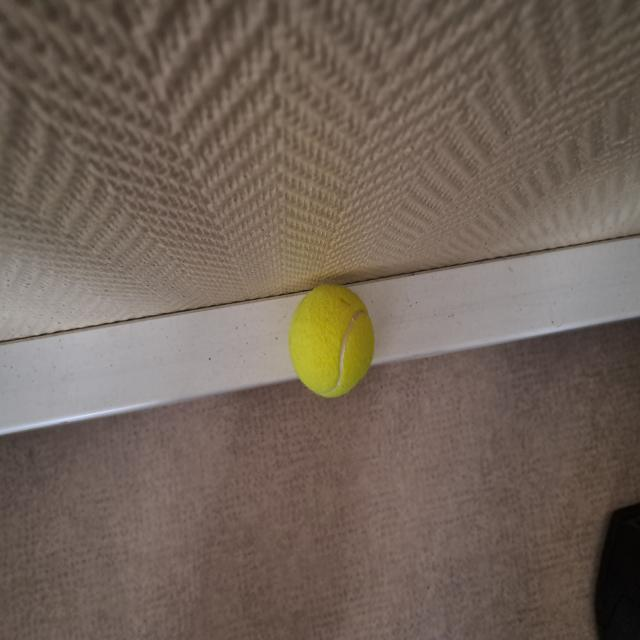tennis: (288, 280, 375, 398)
